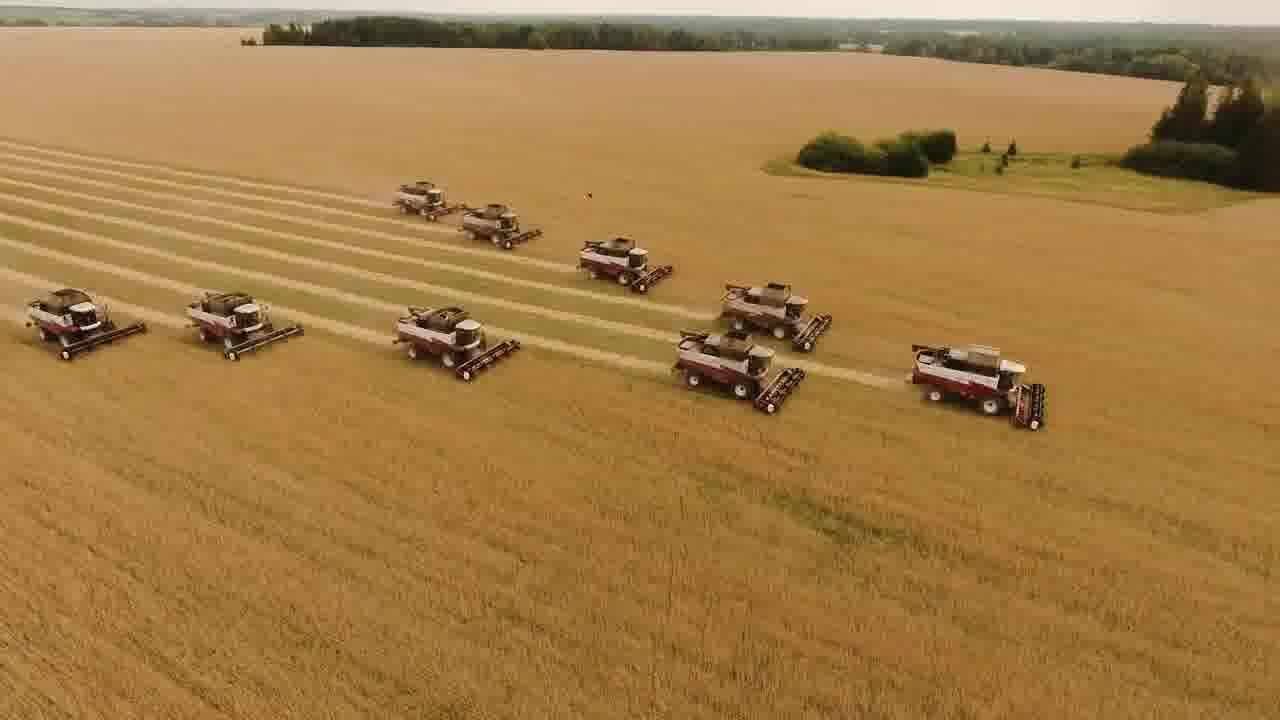combine harvester: (905, 336, 1053, 437), (667, 322, 809, 417), (393, 299, 522, 385), (182, 286, 311, 367), (22, 286, 150, 366), (717, 275, 837, 354), (571, 234, 675, 298), (459, 199, 543, 253), (392, 179, 463, 225)
